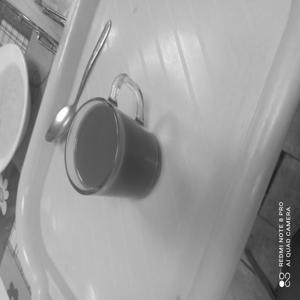coffee: (56, 75, 182, 207)
